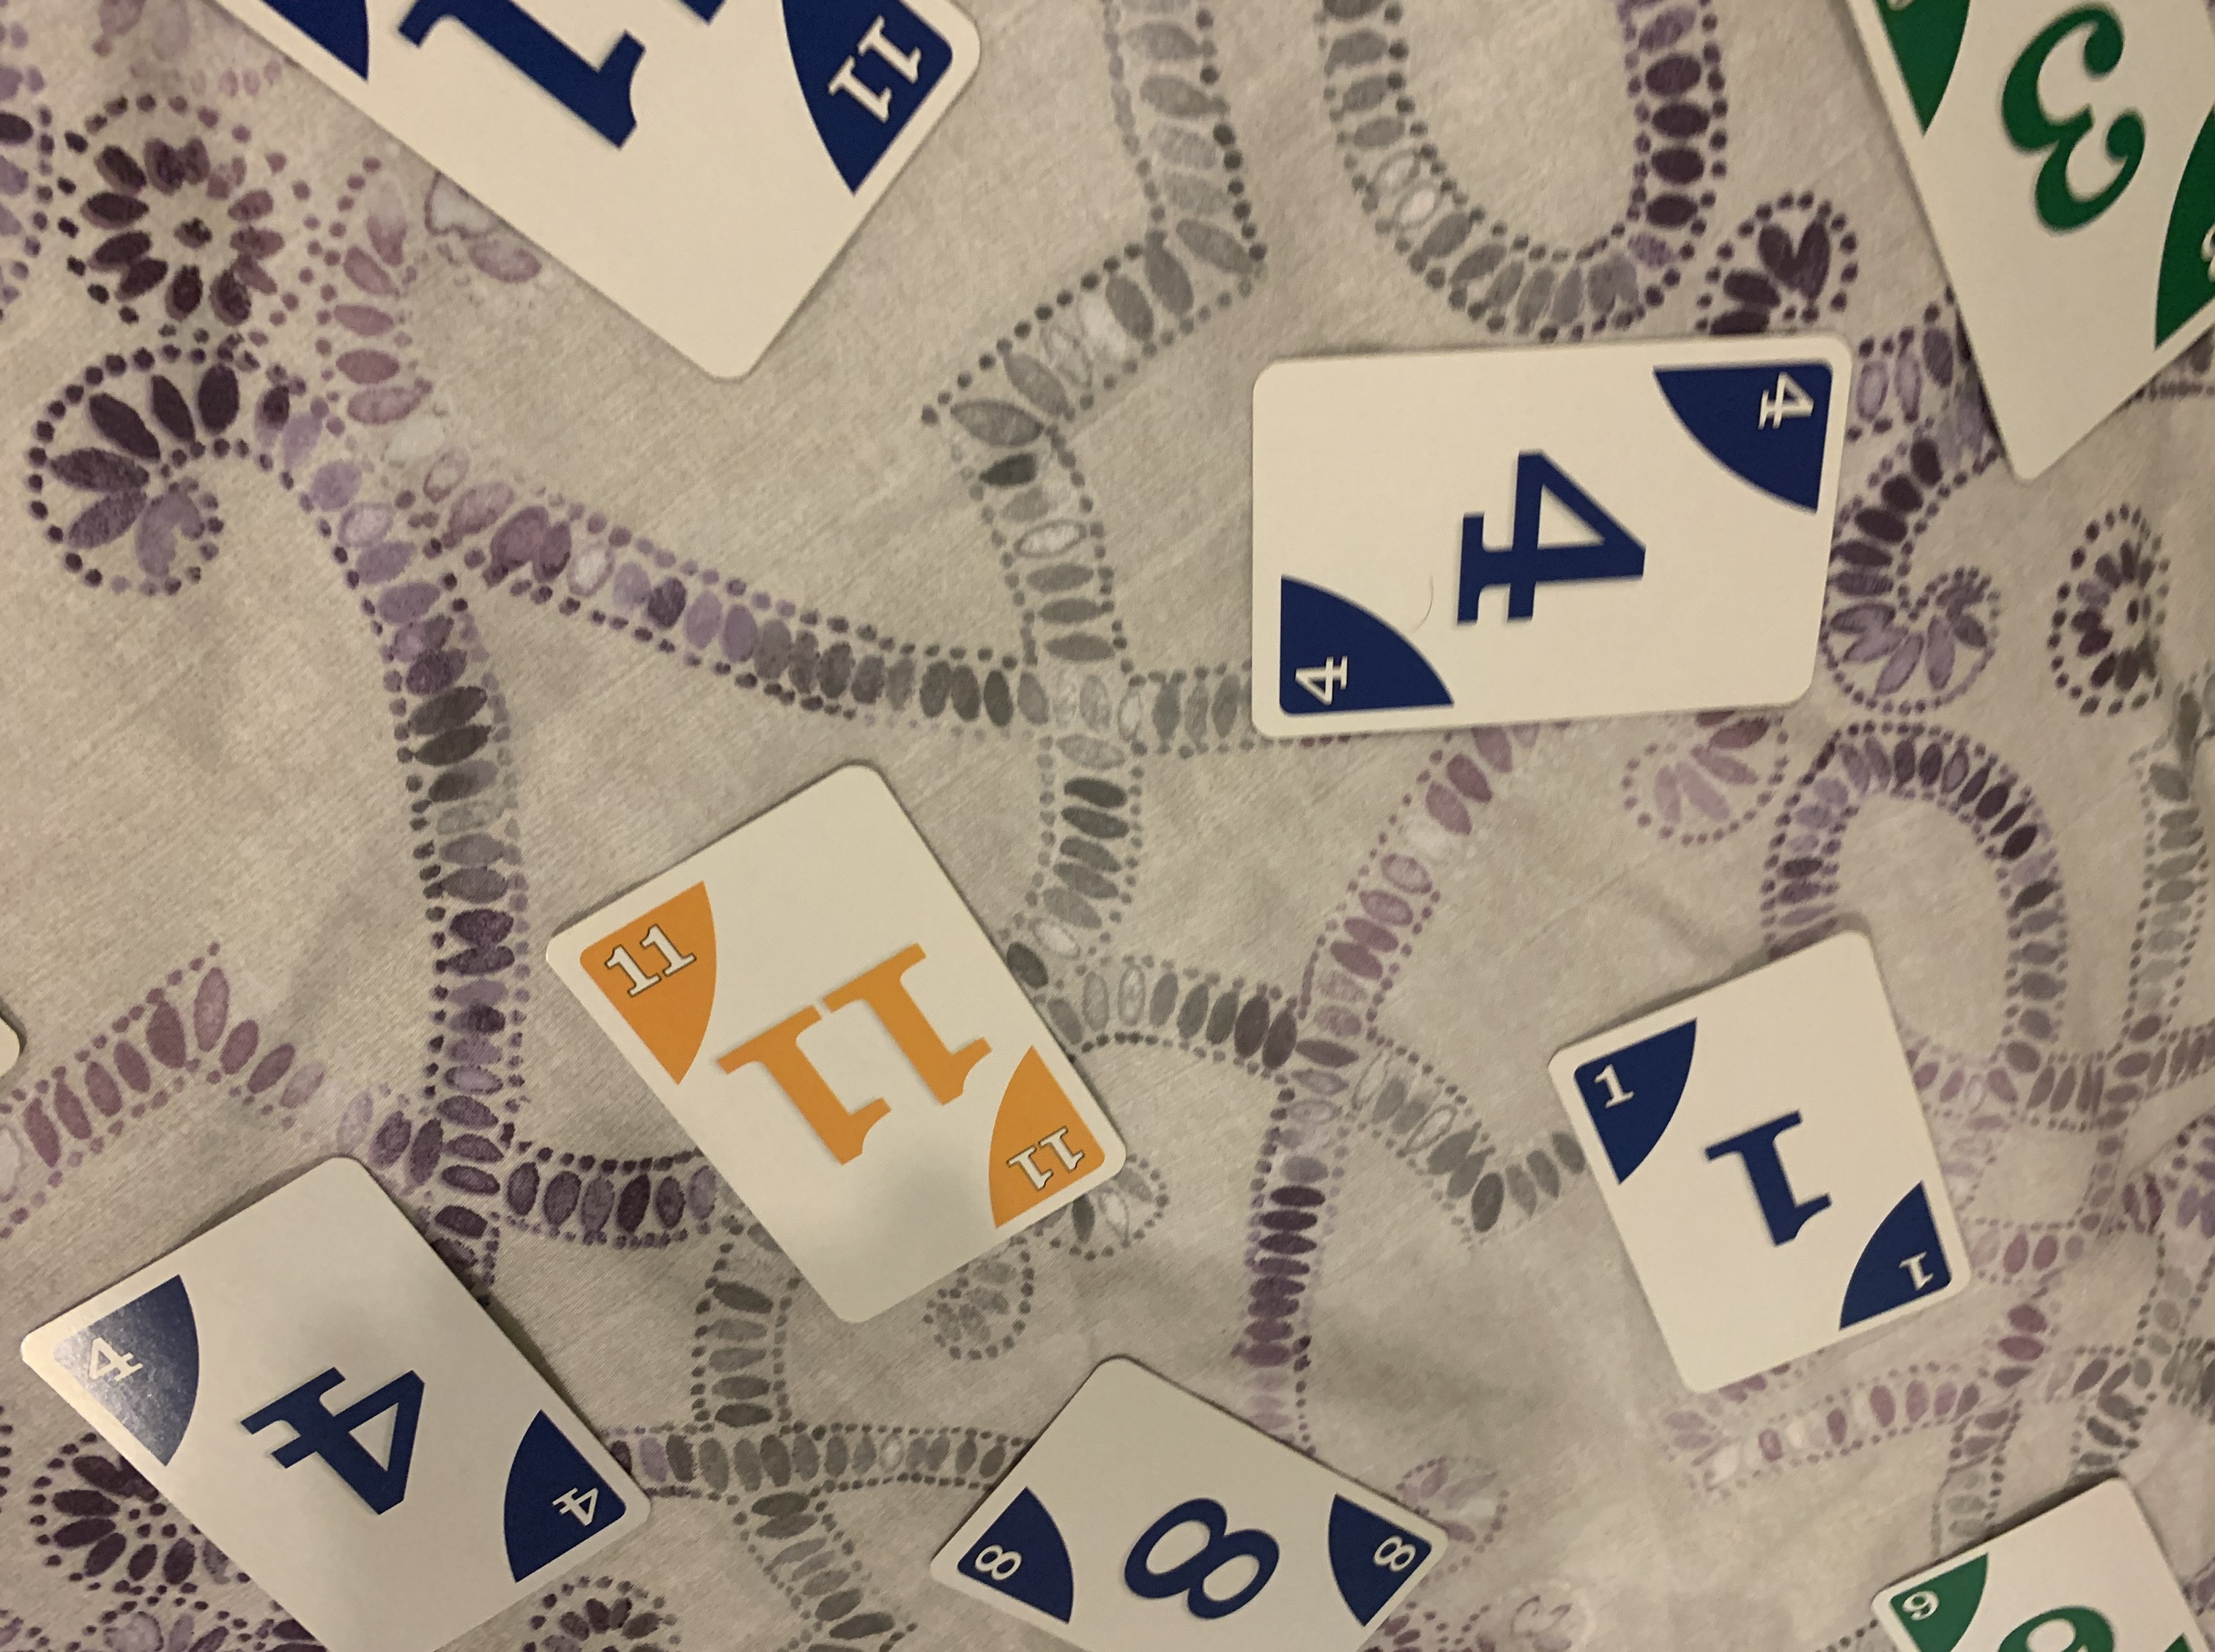eight: (906, 1348, 1455, 1652)
eleven: (545, 757, 1135, 1326)
four: (17, 1154, 653, 1652), (1245, 333, 1850, 725)
one: (1547, 923, 1972, 1402)
